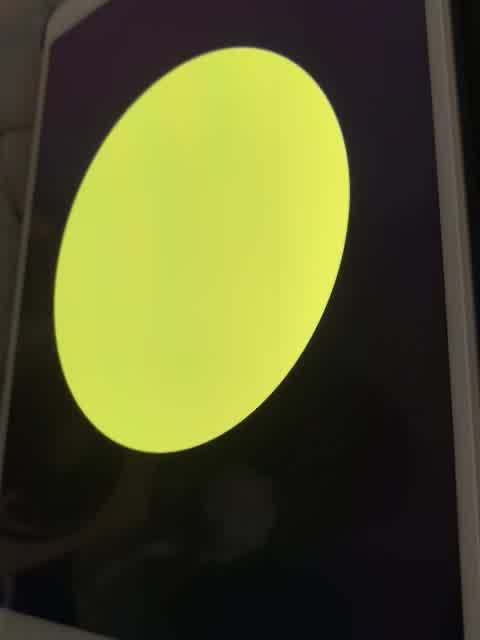left: (48, 39, 358, 464)
